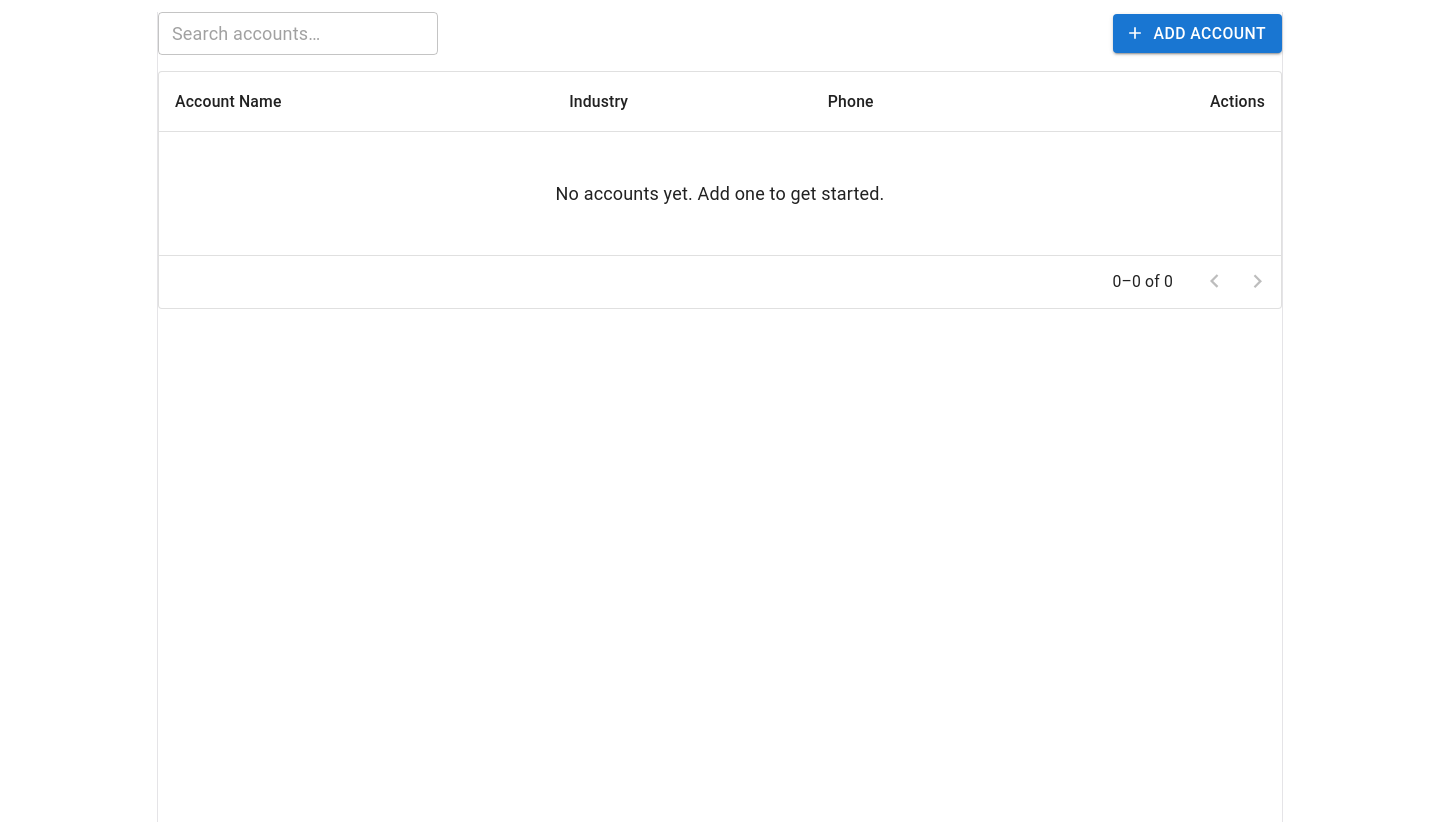
Scenario: AccountListPage › shows no-match message when search returns empty
Type "xyz" into the field with placeholder "Search accounts…". click: (298, 33)
box: [158,12,438,55]
Wait 300 ms
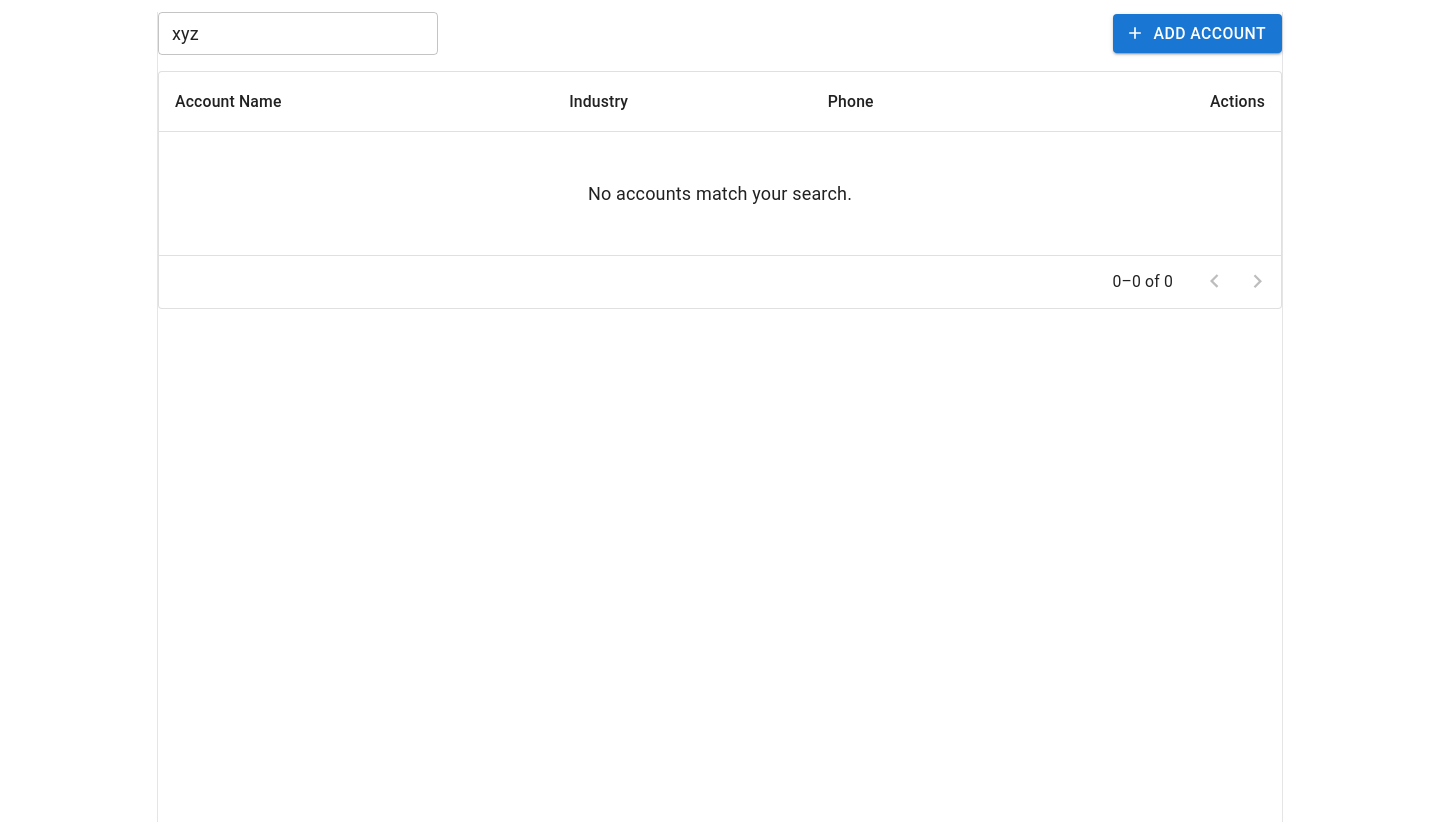
Expected: the text "No accounts match your search." is shown, [588,183,852,204]
